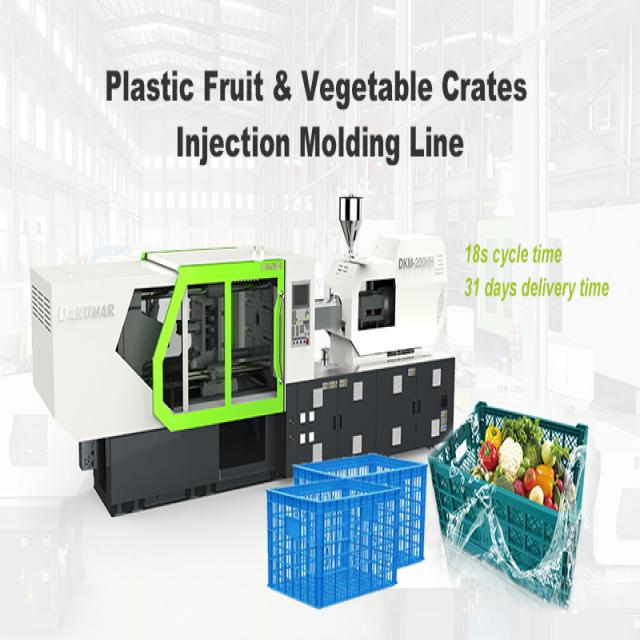basket: (411, 397, 598, 608), (268, 479, 401, 609), (291, 451, 427, 567)
